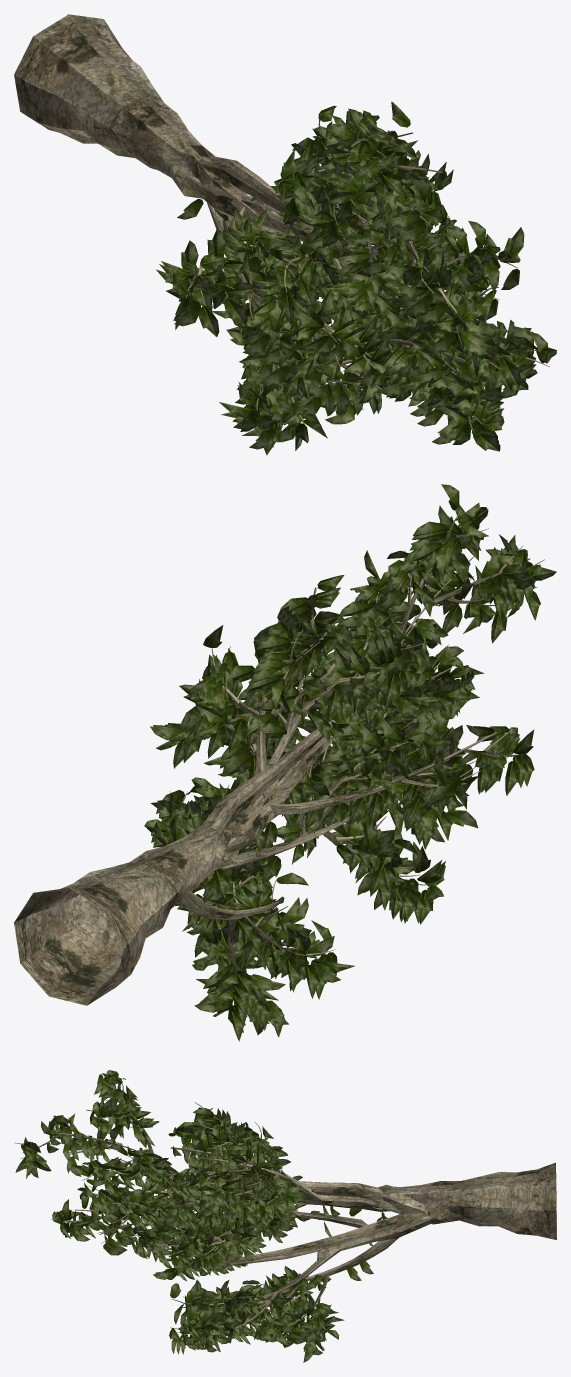
File: tree10.obj
3 views of the same model, one above another, from view 1: azimuth 30°, elevation 25°; view 2: azimuth 150°, elevation 25°; view 3: azimuth 270°, elevation 25° (orthographic). The views are drawn at different scales.
Parts seen in each view (by area): view 1: objt10002, objt10003, objt11591; view 2: objt10002, objt10003, objt11591, objt11858, objt11060, objt10797; view 3: objt10002, objt10788, objt10003, objt10797, objt11315, objt12103, objt11060, objt11591.
Boxes of the visible parts, <box> form: objt10002: <box>14,14,259,221</box>; objt10003: <box>194,156,397,279</box>; objt11591: <box>186,175,390,283</box>; objt10002: <box>14,795,283,1005</box>; objt10003: <box>203,712,354,834</box>; objt11591: <box>224,711,357,853</box>; objt11858: <box>270,767,433,814</box>; objt11060: <box>210,816,349,874</box>; objt10797: <box>179,892,279,919</box>; objt10002: <box>328,1162,556,1239</box>; objt10788: <box>198,1204,431,1268</box>; objt10003: <box>164,1181,383,1202</box>; objt10797: <box>286,1238,398,1283</box>; objt11315: <box>258,1248,340,1300</box>; objt12103: <box>199,1157,321,1199</box>; objt11060: <box>289,1211,367,1227</box>; objt11591: <box>145,1190,382,1209</box>.
Size of the model in its own units: 144 by 159 by 288.
